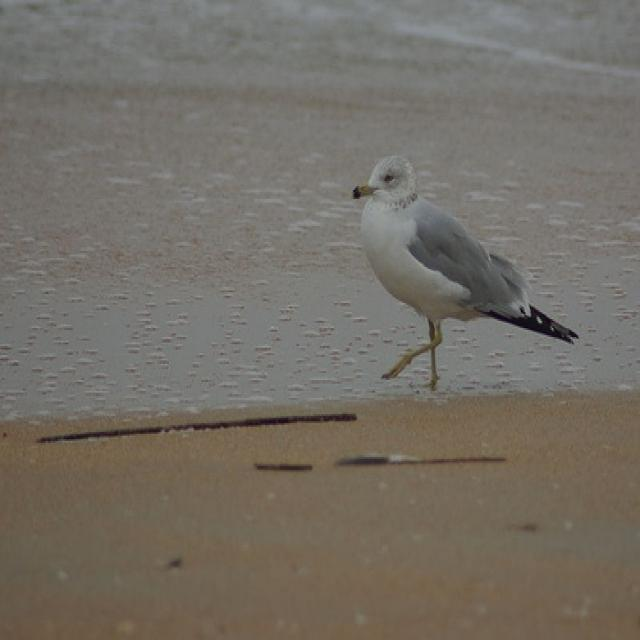bird: (350, 152, 578, 392)
